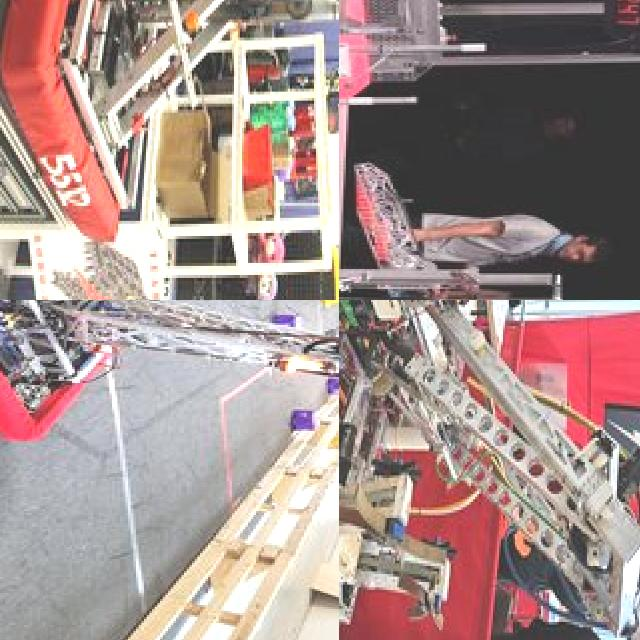FRC-Robots: (339, 300, 640, 611), (0, 0, 339, 273), (0, 300, 339, 467), (339, 186, 591, 300)
